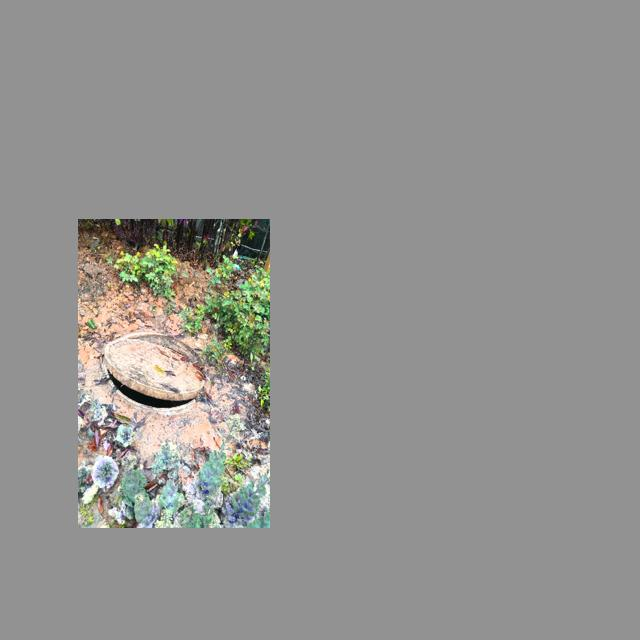uncovered: (105, 332, 207, 414)
